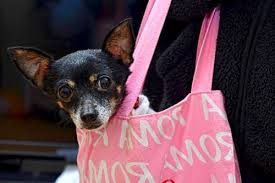chihuahua: (4, 14, 181, 154)
